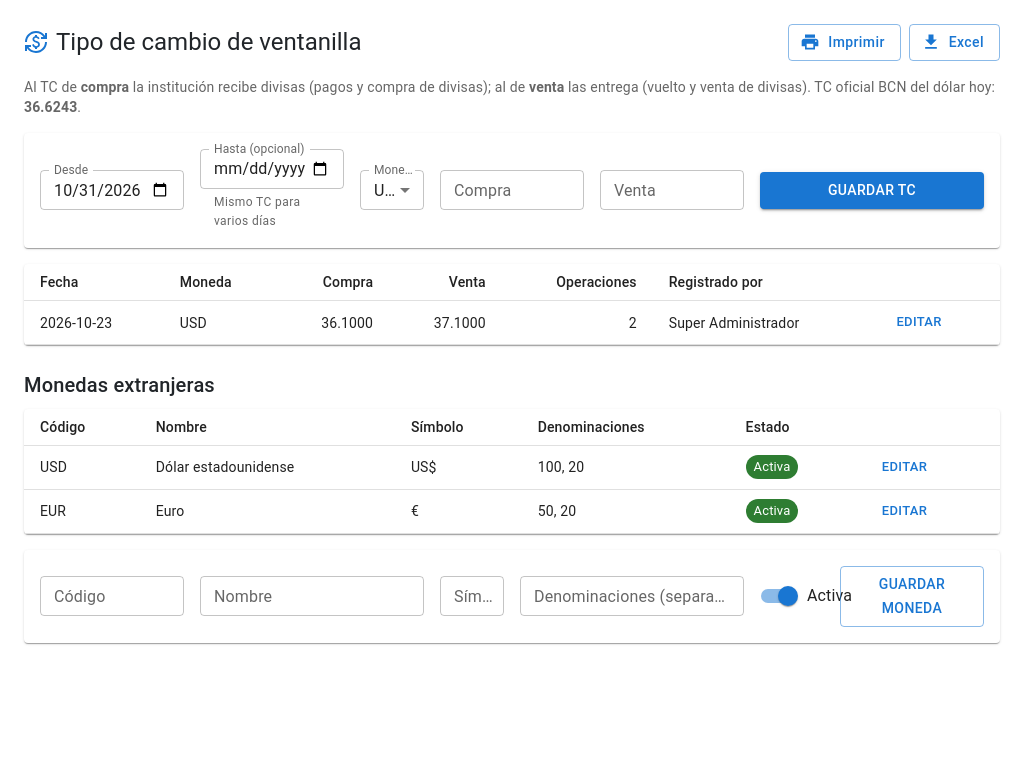
Test: Tipo de cambio de ventanilla › guarda el mismo TC para un rango de días
Expected: the text "36.1000" is shown, [276,301,389,345]
In the date field labelled "Desde": (112, 190) [40,170,184,210], type "2026-10-24"
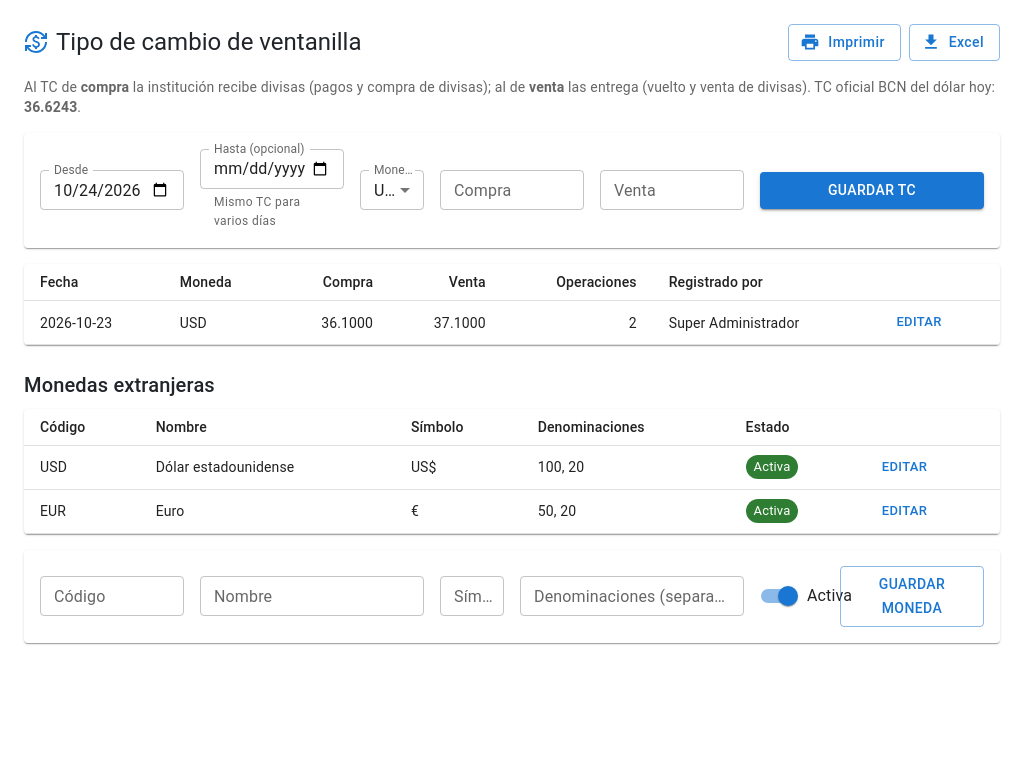
In the date field labelled "Hasta (opcional)": (272, 168) [200,148,344,188], type "2026-10-26"
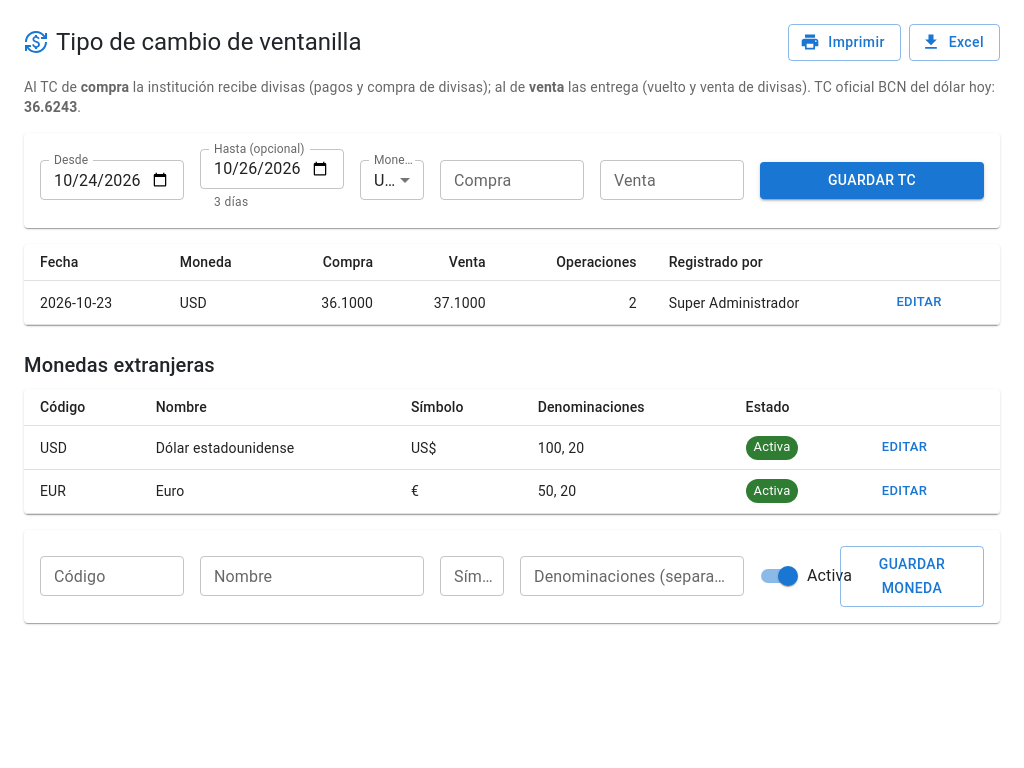
Expected: the text "3 días" is shown, [214,194,249,208]
In the number field labelled "Compra": (512, 180) [440,160,584,200], type "36.2"
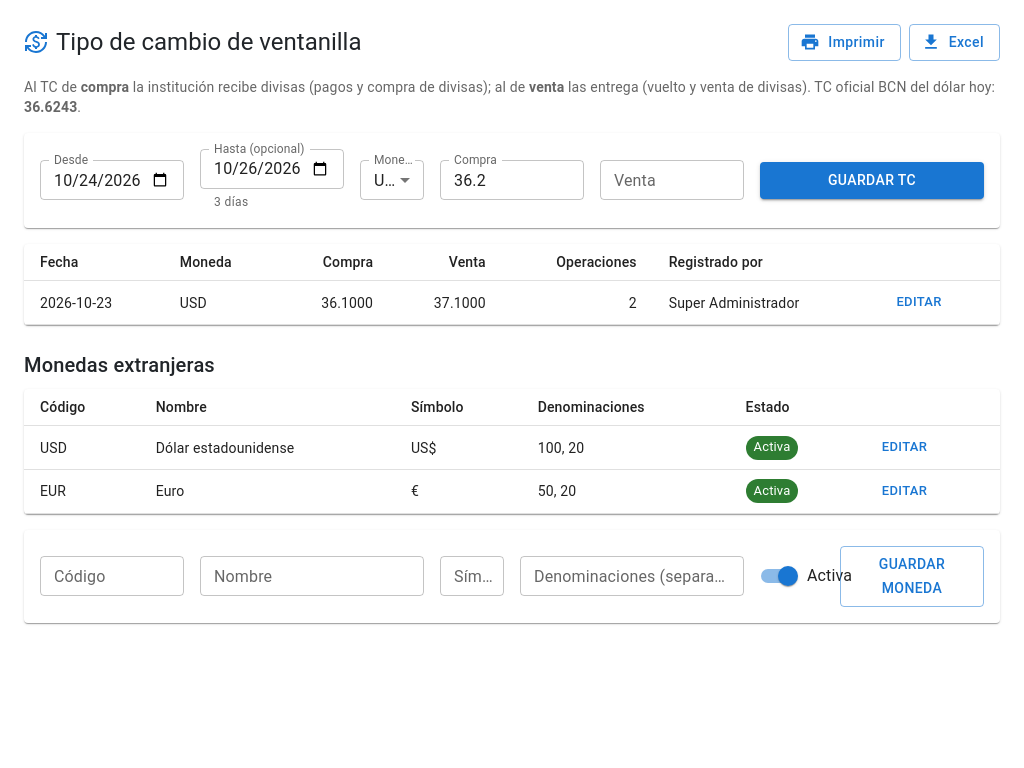
In the number field labelled "Venta": (672, 180) [600,160,744,200], type "37.2"
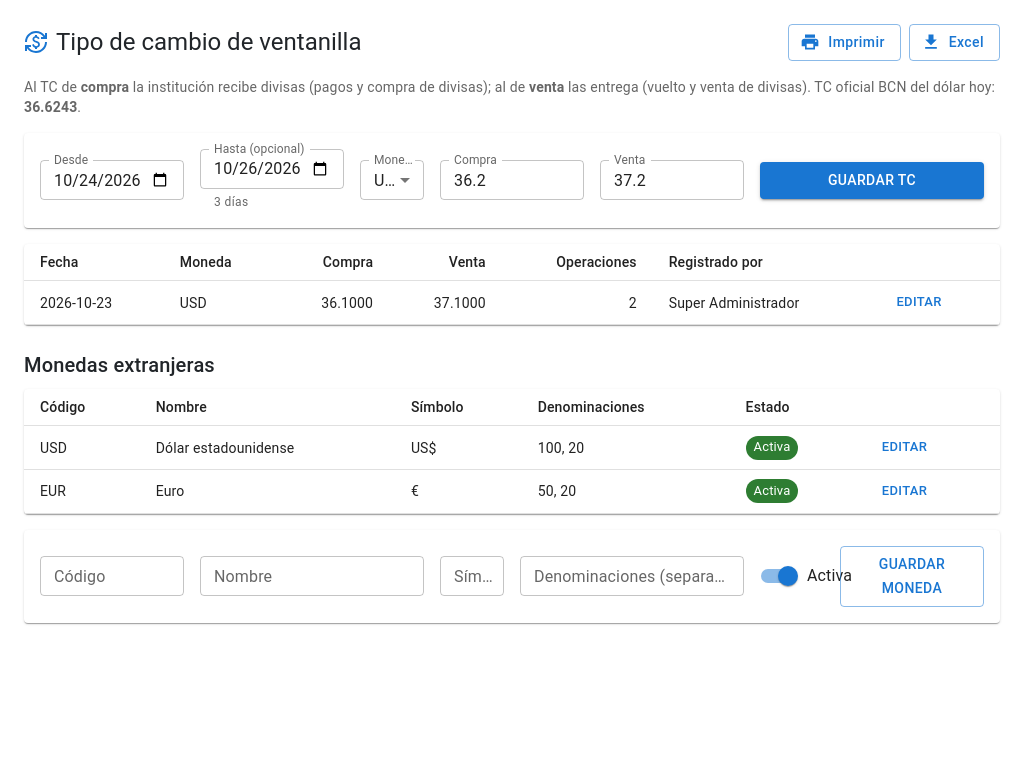
Click the button "Guardar TC": (872, 180) [760,162,984,199]
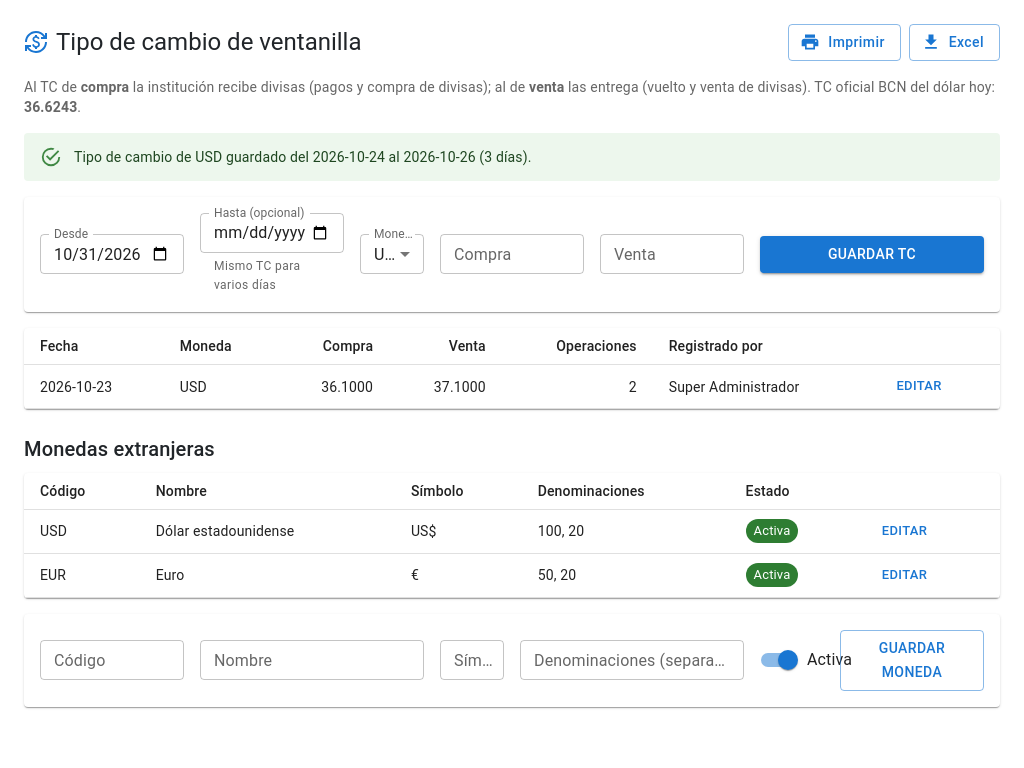
Expected: the text "guardado del 2026-10-24 al 2026-10-26 (3 días" is shown, [74,148,532,164]
